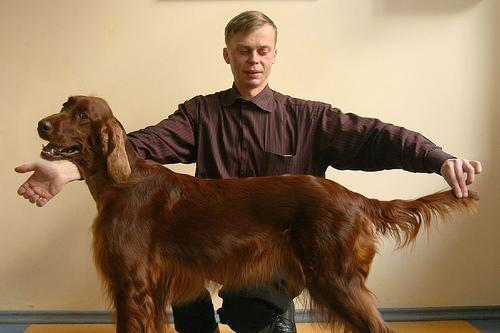Irish_setter: (37, 94, 478, 331)
